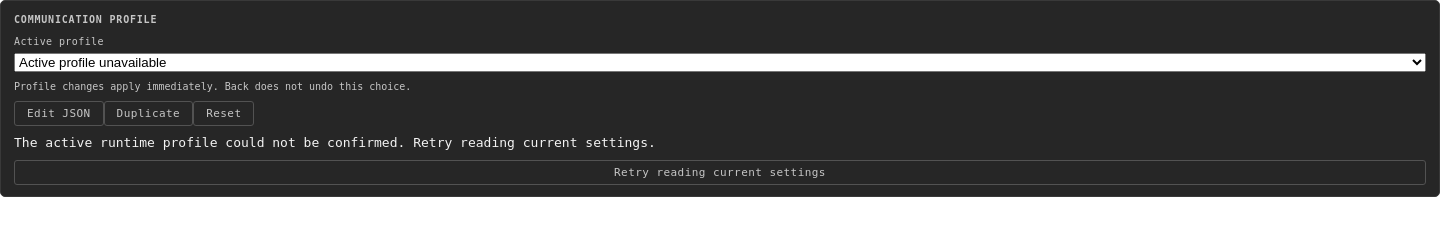
ProfileSelector — communication type › does not select the default profile when the initial runtime snapshot is unavailable
Expected: the message is shown, [14, 135, 656, 150]
Expected: the dropdown shows "Active profile unavailable", [14, 53, 1426, 72]
Click the button "Retry reading current settings": (720, 172) [14, 160, 1426, 184]
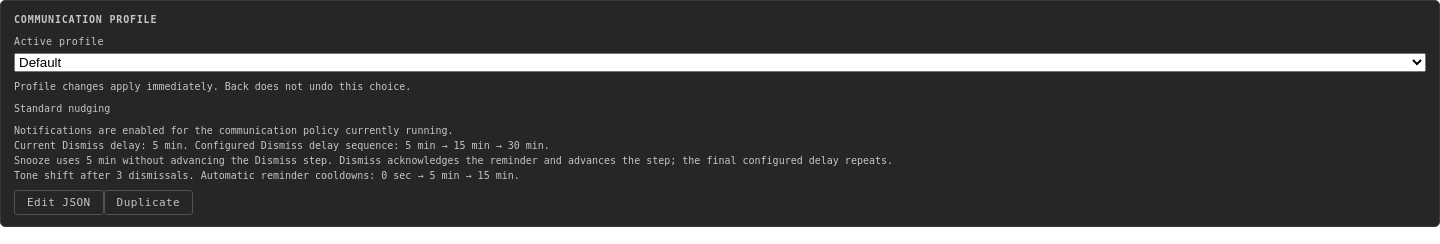
Now the text "Current Dismiss delay: 5 min" is shown, box [14, 140, 550, 151]
Now the dropdown shows "Default", box [14, 53, 1426, 72]
